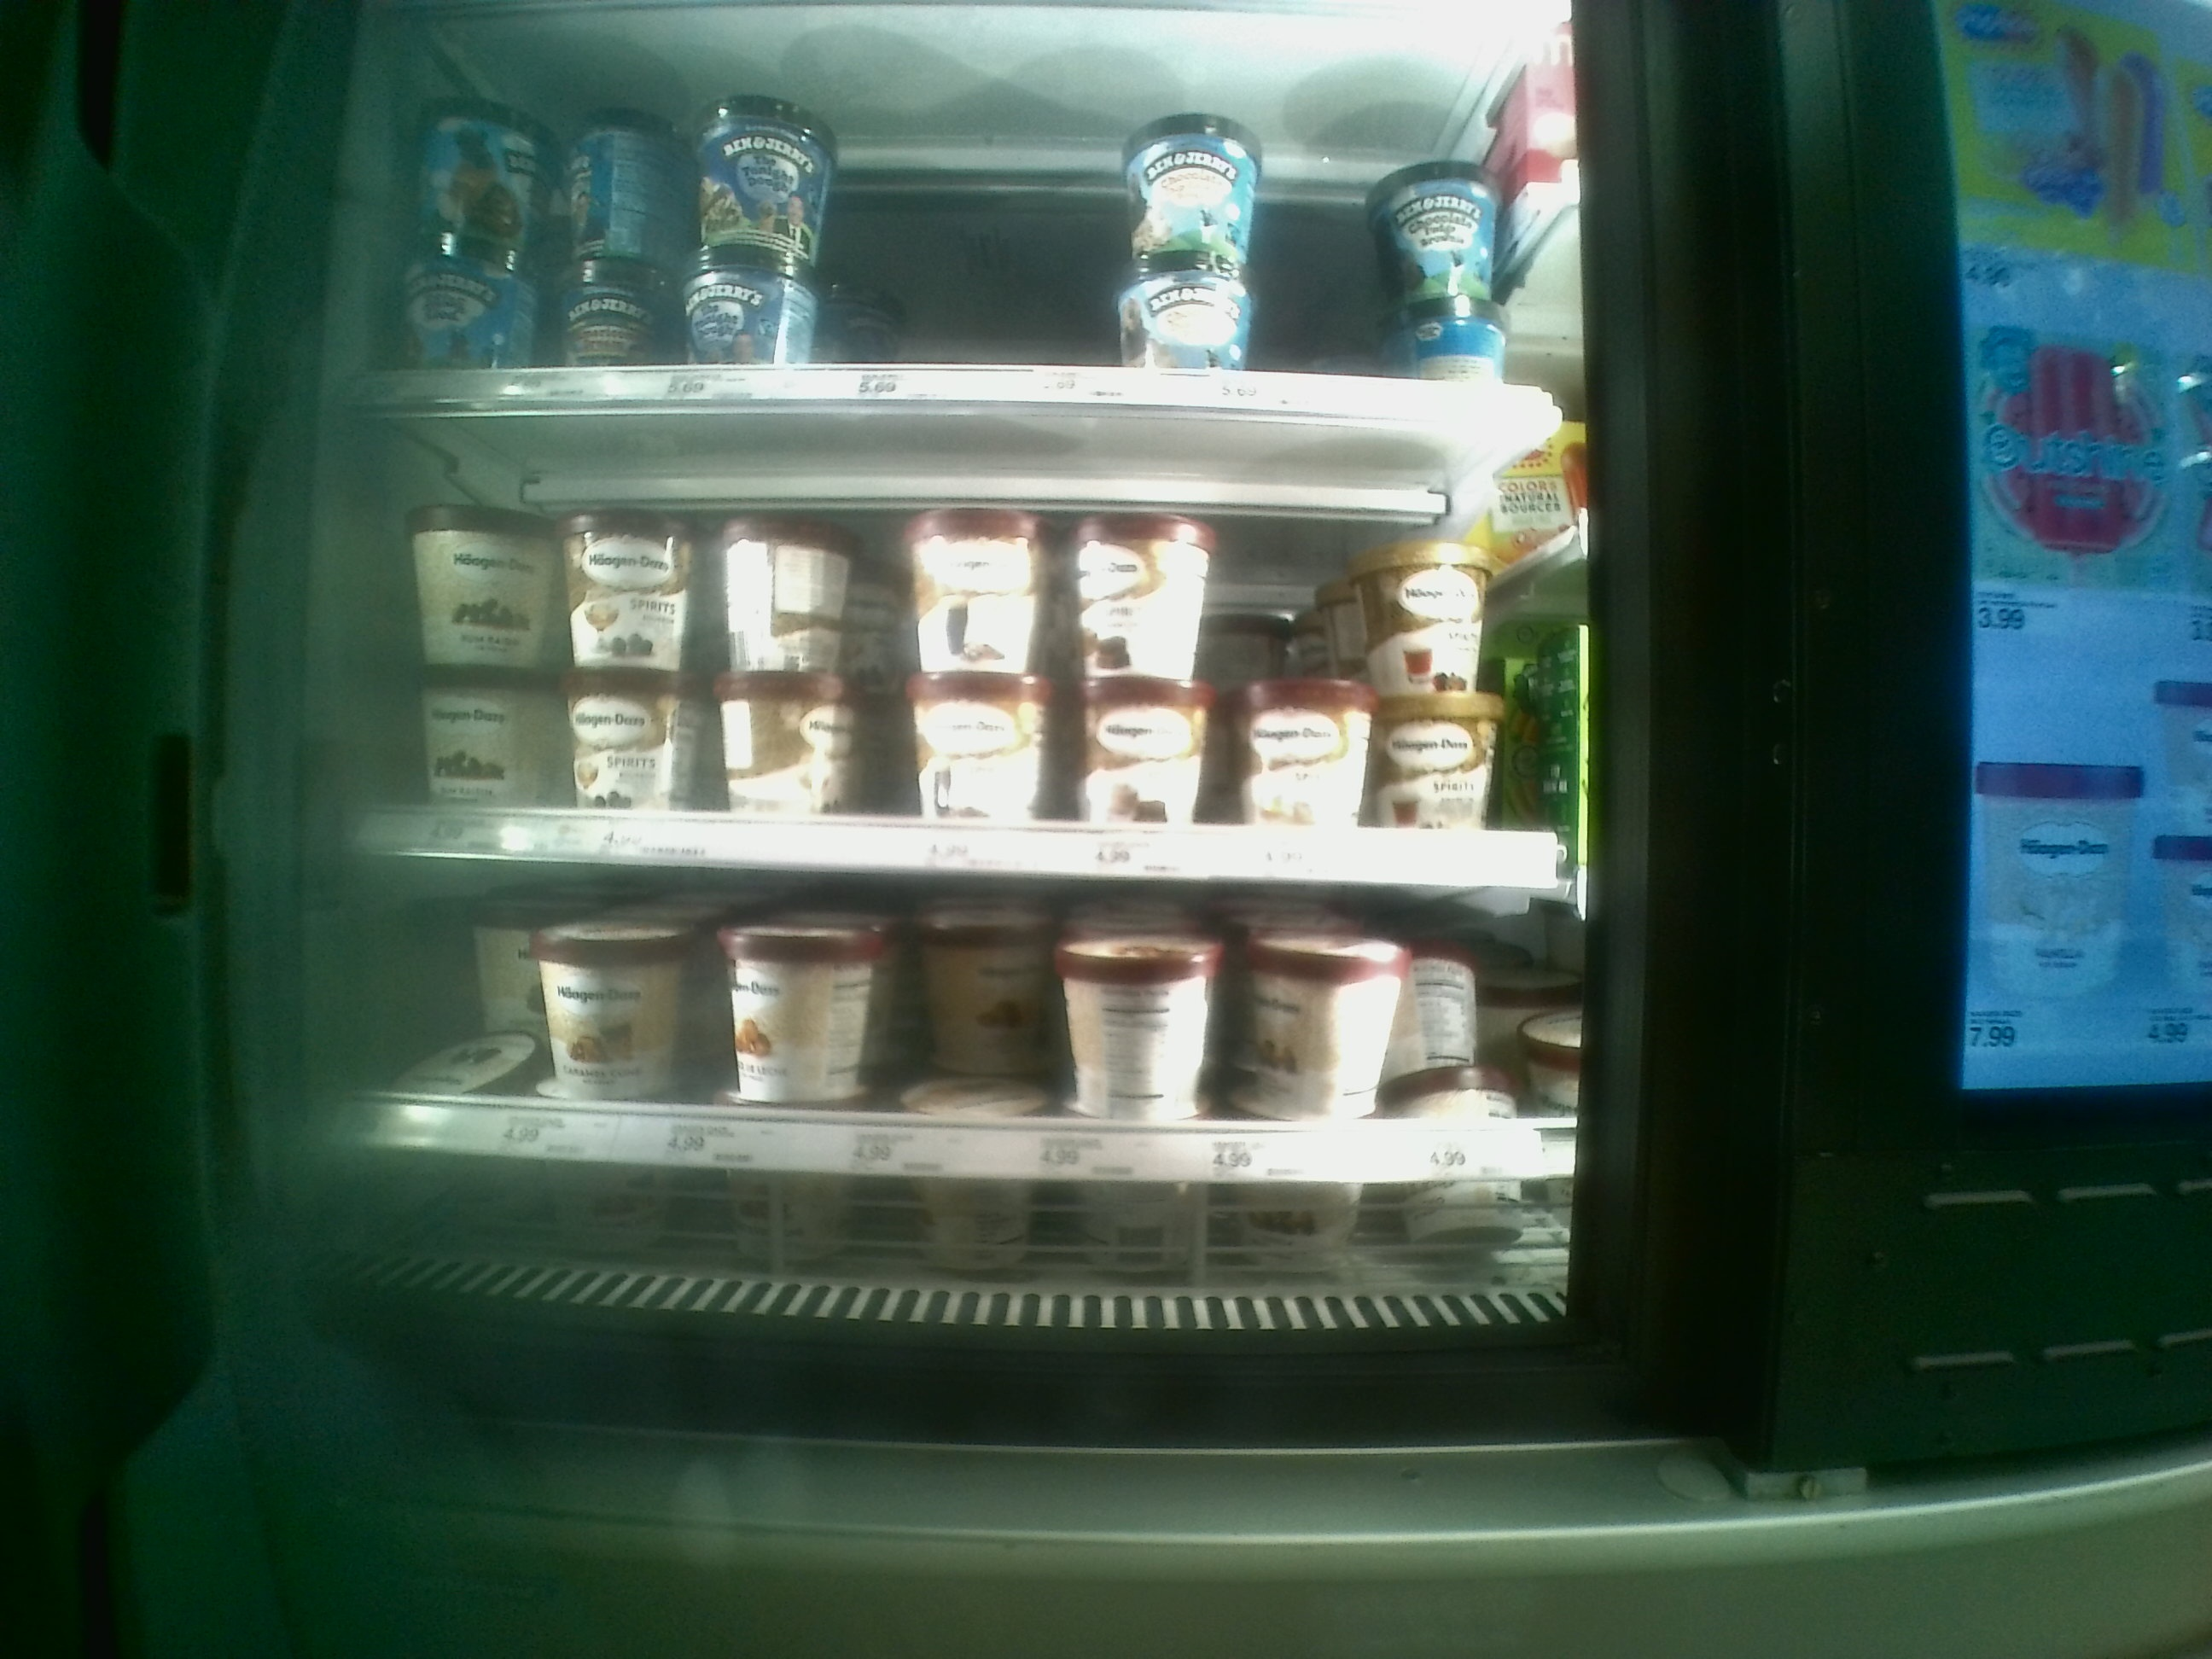ice-cream-shelf: (359, 413, 1581, 871), (359, 864, 1587, 1251)
